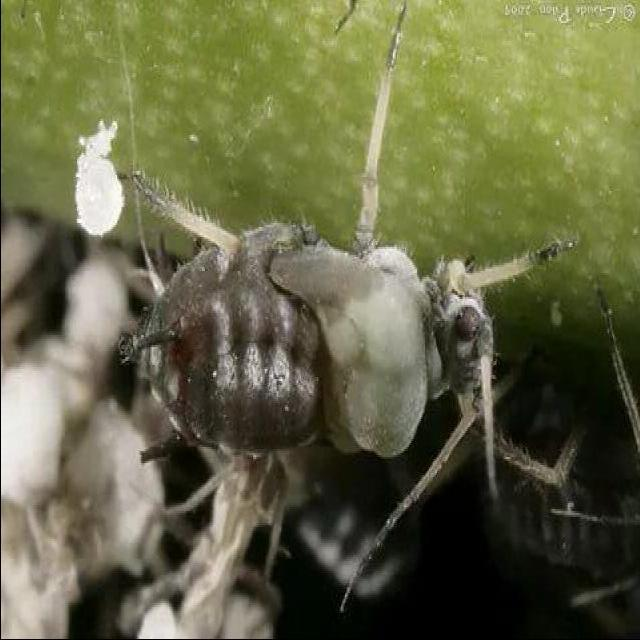aphid: (123, 188, 517, 502)
